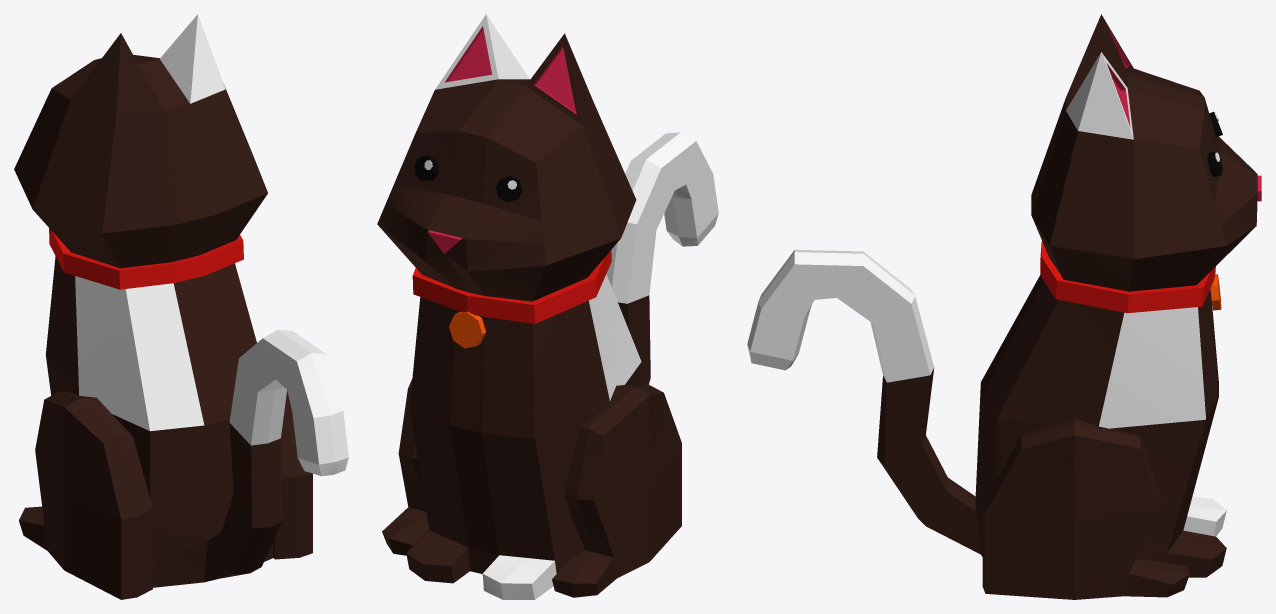
The model's file is Cat_01.obj.
3 renders of one model, left to right at view 1: azimuth 30°, elevation 25°; view 2: azimuth 150°, elevation 25°; view 3: azimuth 270°, elevation 25°, orthographic. The views are drawn at different scales.
Parts seen in each view (by area): view 1: Cube.004; view 2: Cube.004; view 3: Cube.004.
Part boxes in pixels (left/top/right/bottom): Cube.004: left=14, top=14, right=348, bottom=599; Cube.004: left=377, top=14, right=718, bottom=599; Cube.004: left=747, top=14, right=1261, bottom=599.
Bounding box in the file's own units: 0.6267 × 1.39 × 1.26.
